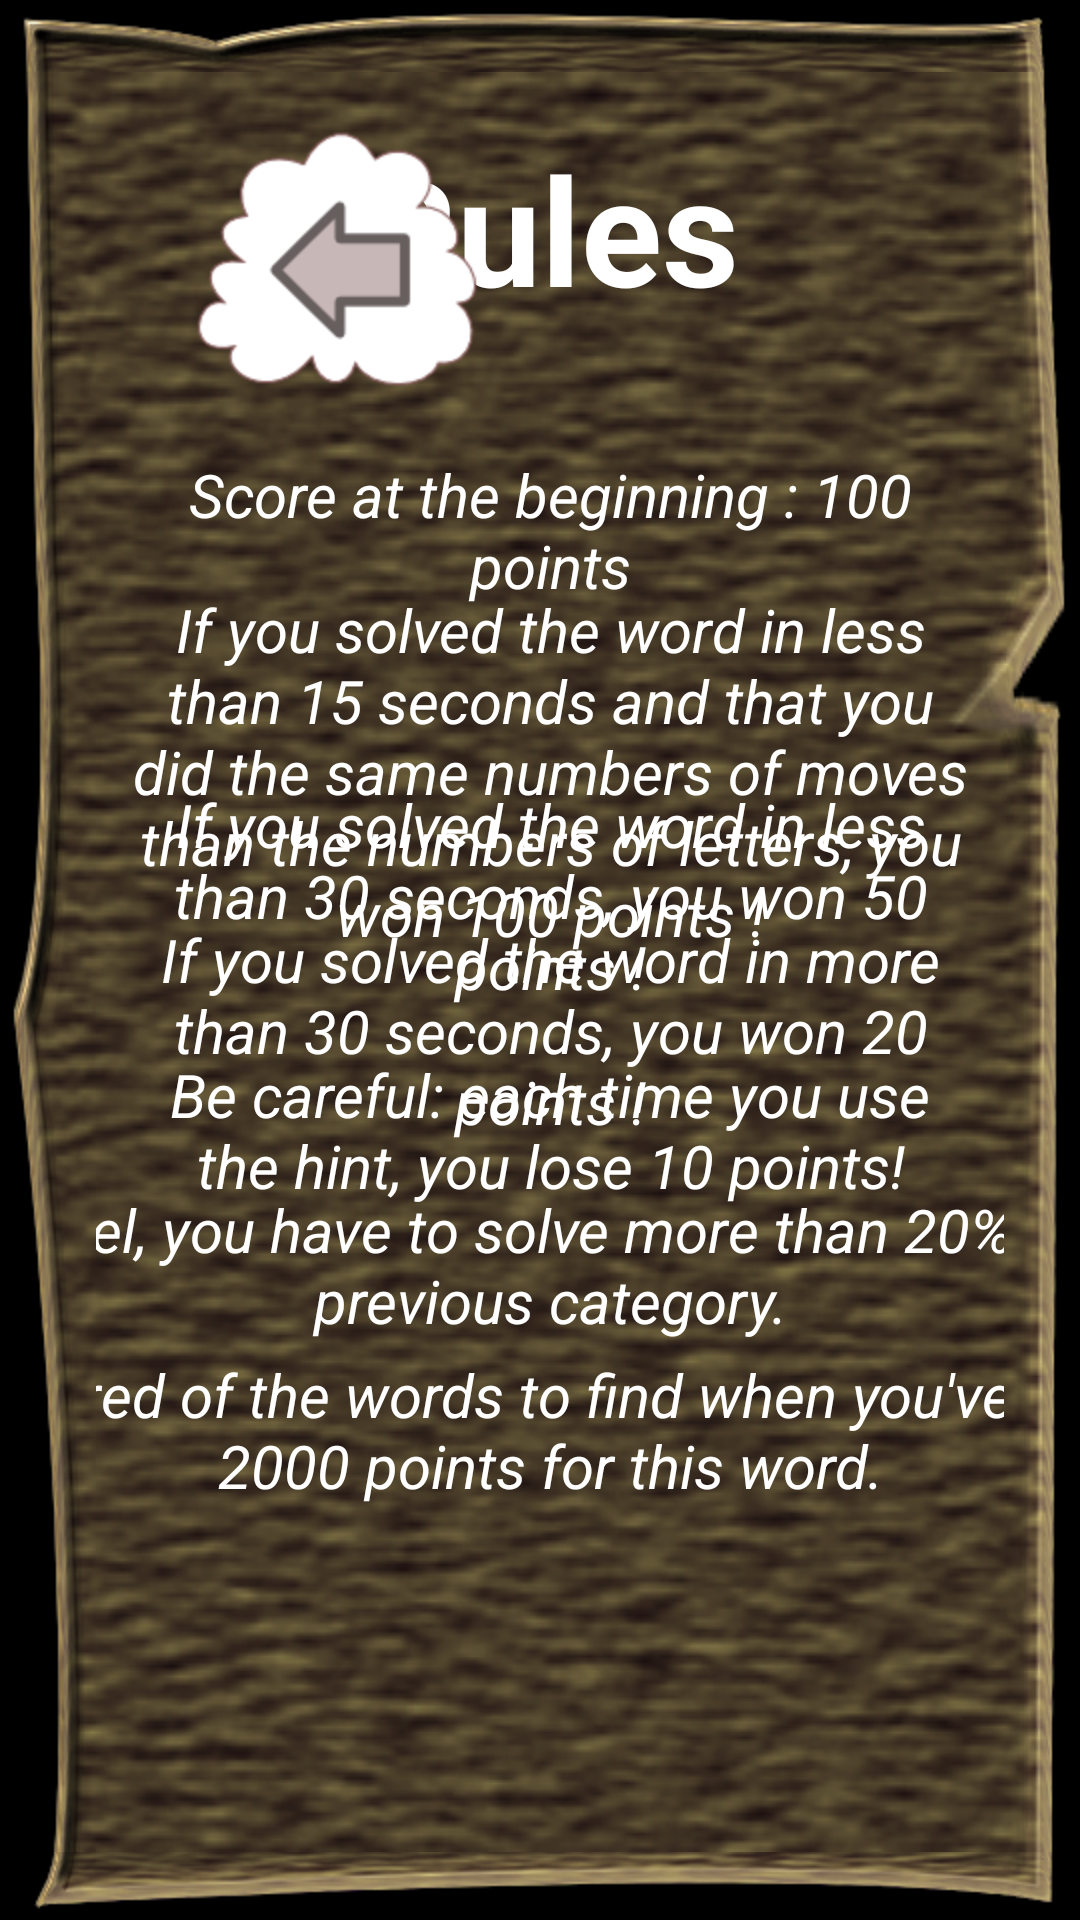

Icon click points for this 1080px x 1920px phone screenshot, format point (x, y):
back: point (336, 263)
